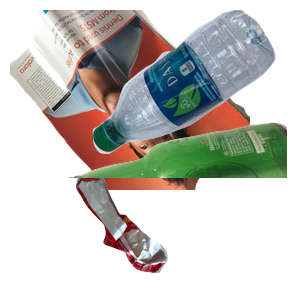glass: (60, 120, 300, 300)
paper: (10, 10, 250, 190)
plastic: (90, 10, 300, 156)
trash: (74, 167, 235, 300)
